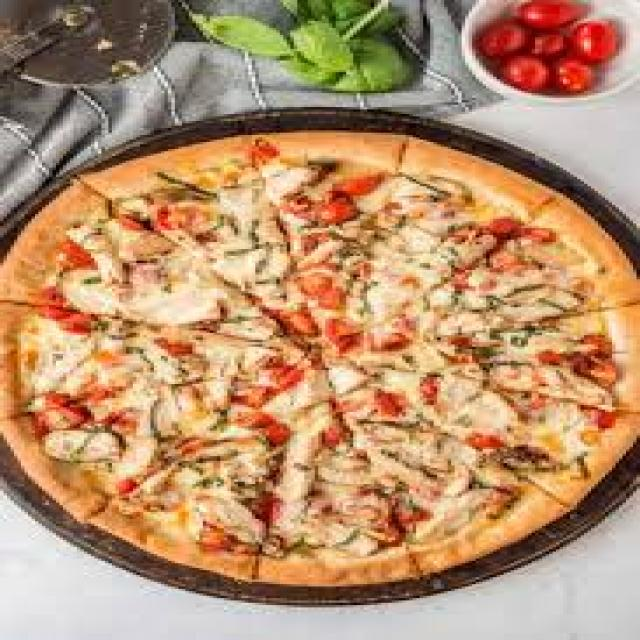피자: (12, 141, 640, 597)
